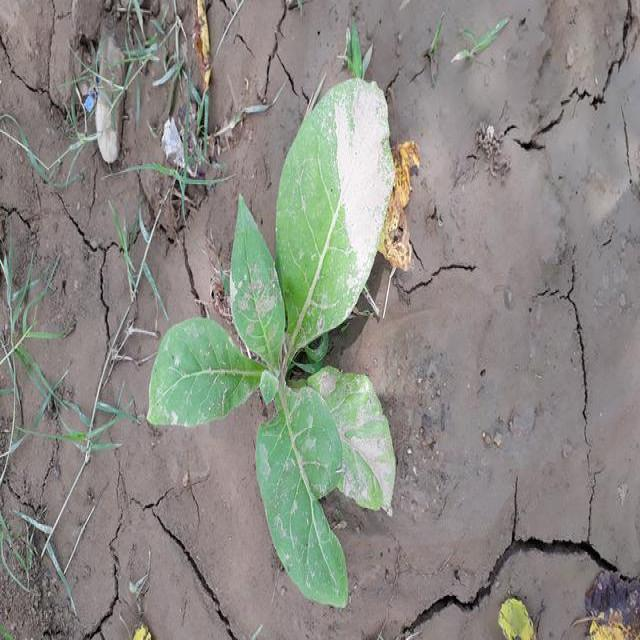crop: (158, 78, 398, 605)
